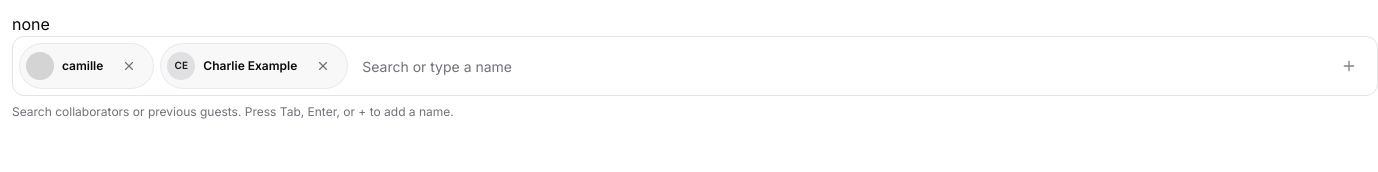
Scenario: MeetingParticipantPicker › toggles a guest steward when the stored participant is eligible
Click the button with aria-label "Make Charlie Example steward / facilitator".
click(235, 66)  # box [165,48,305,84]
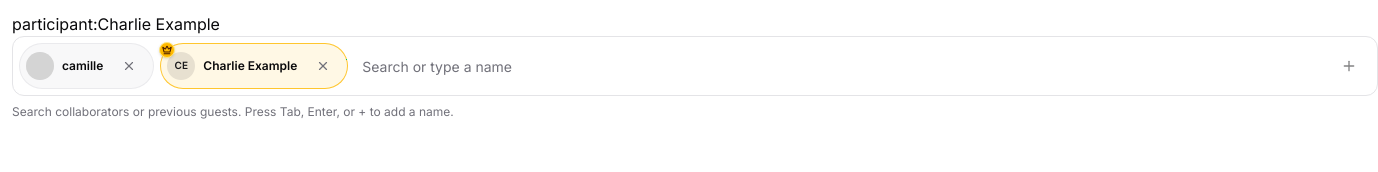
Result: the text with test id "steward-reference" reads "participant:Charlie Example" at [12,14,220,34]
Click the button named "Make Charlie Example steward / facilitator".
click(235, 66)  # box [165,48,305,84]
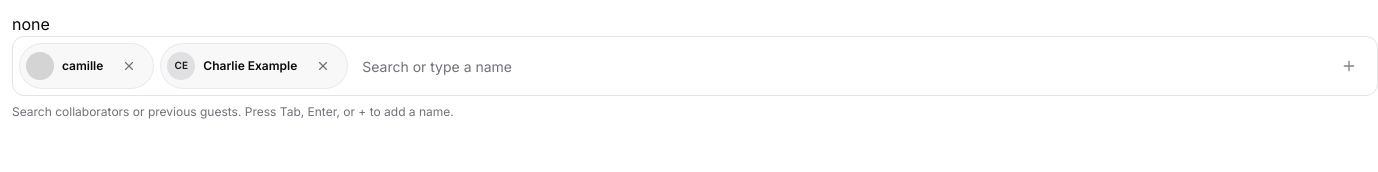
Result: the text with test id "steward-reference" reads "none" at [12,14,50,34]
